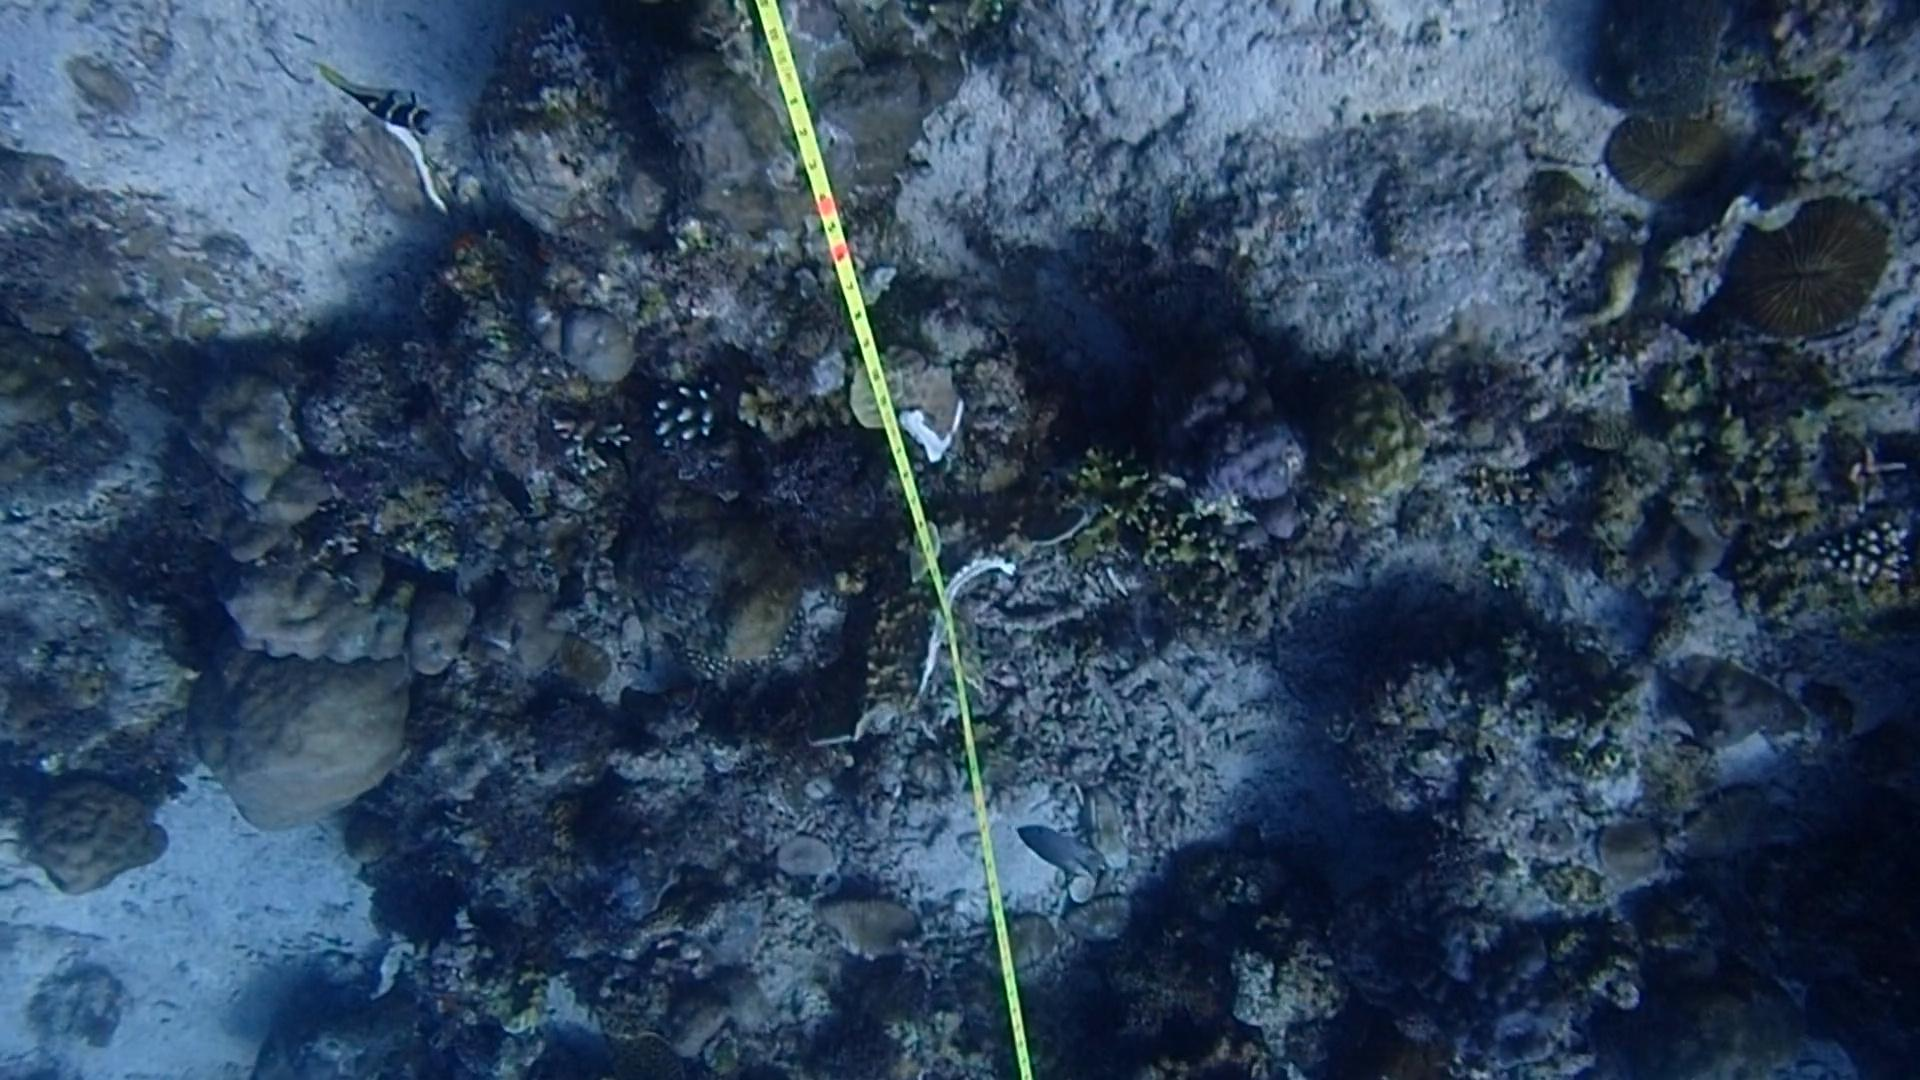Striped Fish: (318, 54, 450, 154)
